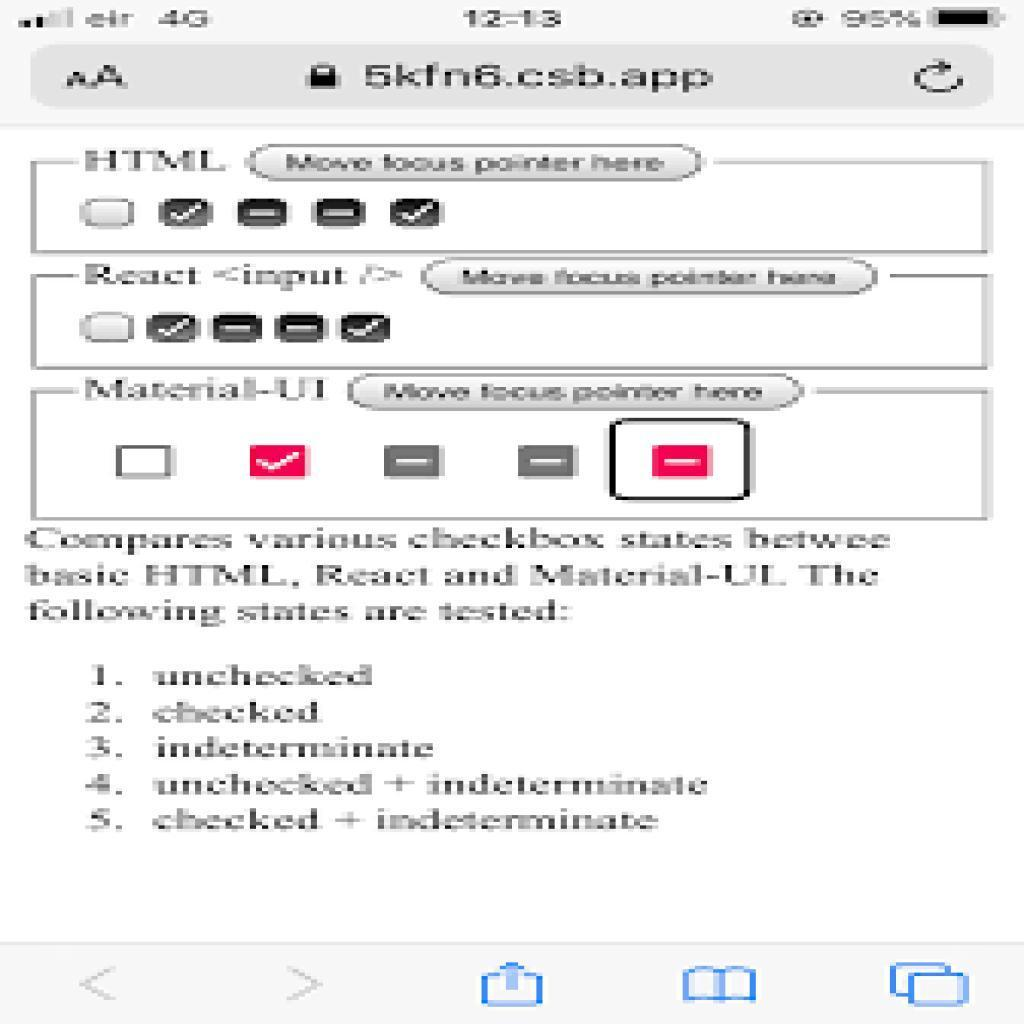checkbox: (655, 444, 714, 484), (384, 444, 443, 480), (116, 444, 173, 478), (518, 446, 575, 479), (311, 196, 366, 230), (251, 447, 310, 478), (389, 197, 445, 229), (159, 199, 214, 231), (210, 314, 266, 345), (339, 315, 392, 345), (82, 312, 134, 342), (275, 313, 328, 342), (84, 200, 135, 230), (146, 315, 199, 343), (239, 200, 290, 229)
